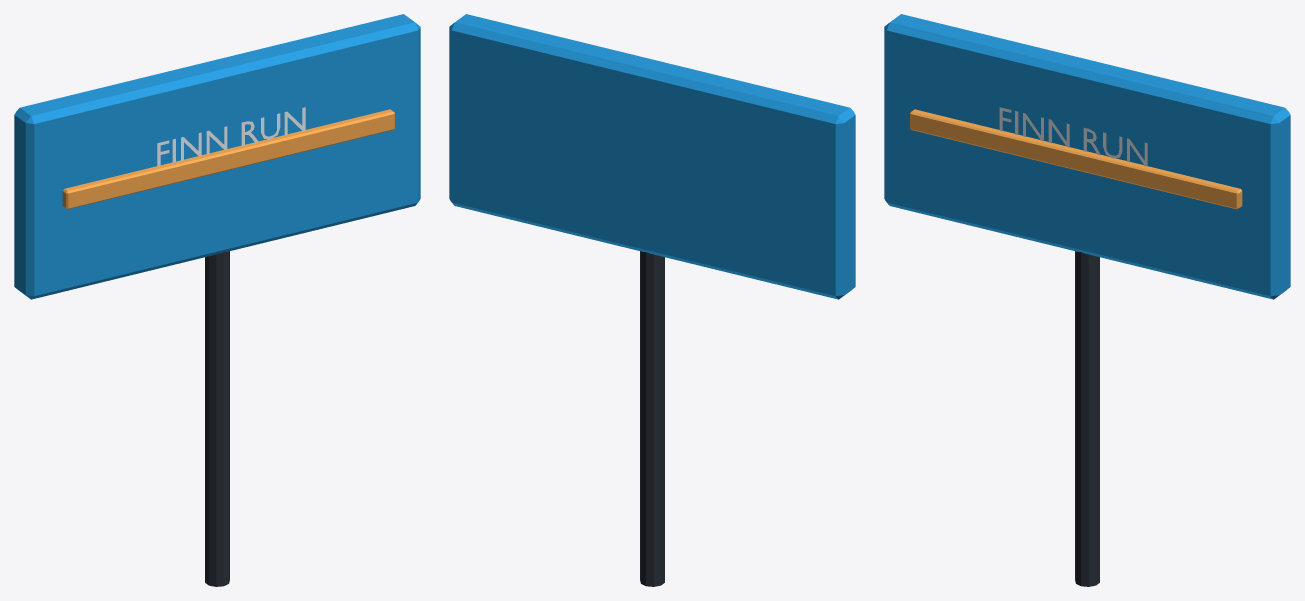
File: transit_sign_a.glb
The picture shows the model from 3 angles, left to right: view 1: azimuth 30°, elevation 25°; view 2: azimuth 150°, elevation 25°; view 3: azimuth 330°, elevation 25°; orthographic projection.
Visible parts, largest first — view 1: TransitSign_Board, TransitSign_Pole, TransitSign_Accent, Label_FINN_RUN; view 2: TransitSign_Board, TransitSign_Pole; view 3: TransitSign_Board, TransitSign_Pole, TransitSign_Accent, Label_FINN_RUN.
Boxes of the visible parts, x1,y1,x2,y2 form: TransitSign_Board: [14, 14, 420, 299]; TransitSign_Pole: [205, 251, 229, 586]; TransitSign_Accent: [62, 109, 394, 209]; Label_FINN_RUN: [157, 107, 305, 166]; TransitSign_Board: [449, 14, 855, 299]; TransitSign_Pole: [640, 251, 664, 586]; TransitSign_Board: [884, 14, 1290, 299]; TransitSign_Pole: [1075, 251, 1099, 586]; TransitSign_Accent: [910, 109, 1242, 209]; Label_FINN_RUN: [999, 107, 1147, 166].
Size of the model in its own units: 3.6 by 4.5 by 0.36.
